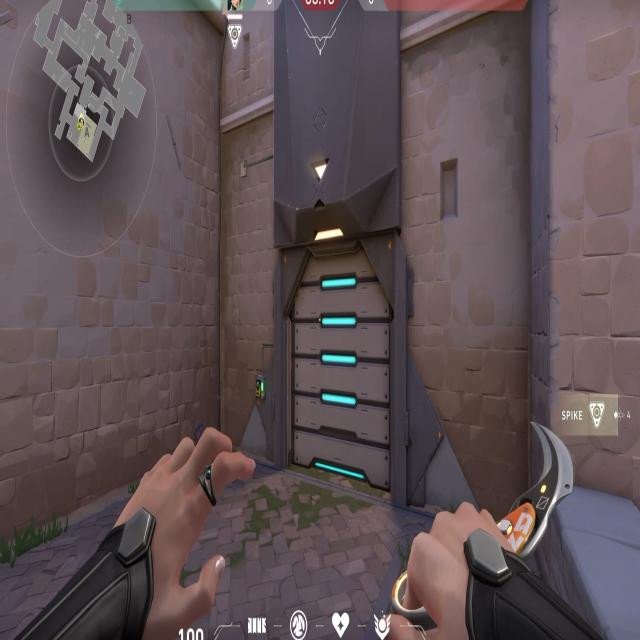A_Door: (282, 254, 398, 493)
